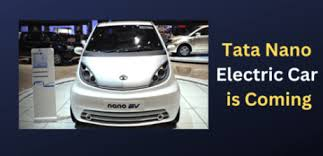Nano: (71, 20, 179, 132)
